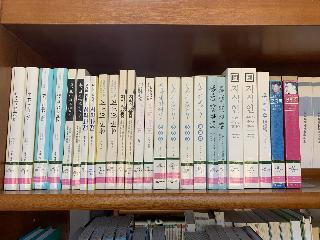book-spine: (3, 66, 25, 192), (17, 67, 39, 192), (32, 68, 54, 191), (46, 68, 68, 190), (227, 68, 244, 190), (283, 80, 302, 188), (242, 68, 259, 188), (257, 71, 272, 189), (269, 80, 285, 189), (62, 68, 76, 190), (72, 69, 86, 190), (153, 77, 167, 189), (106, 74, 119, 190), (95, 74, 108, 189), (167, 77, 180, 189), (181, 77, 194, 189), (194, 76, 206, 189), (133, 77, 145, 189), (124, 70, 135, 190), (143, 77, 154, 189), (116, 70, 126, 190), (80, 76, 90, 190), (87, 76, 97, 190), (208, 76, 218, 190), (217, 77, 227, 189)
